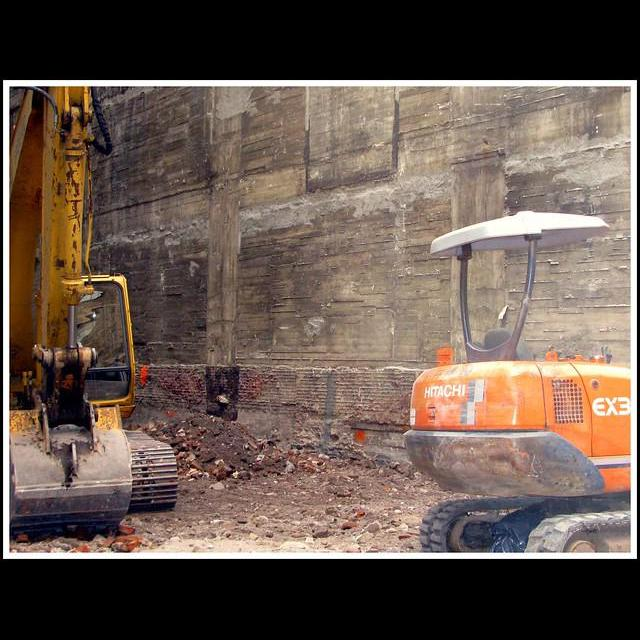Excavator: (0, 86, 180, 536), (408, 213, 639, 562)
